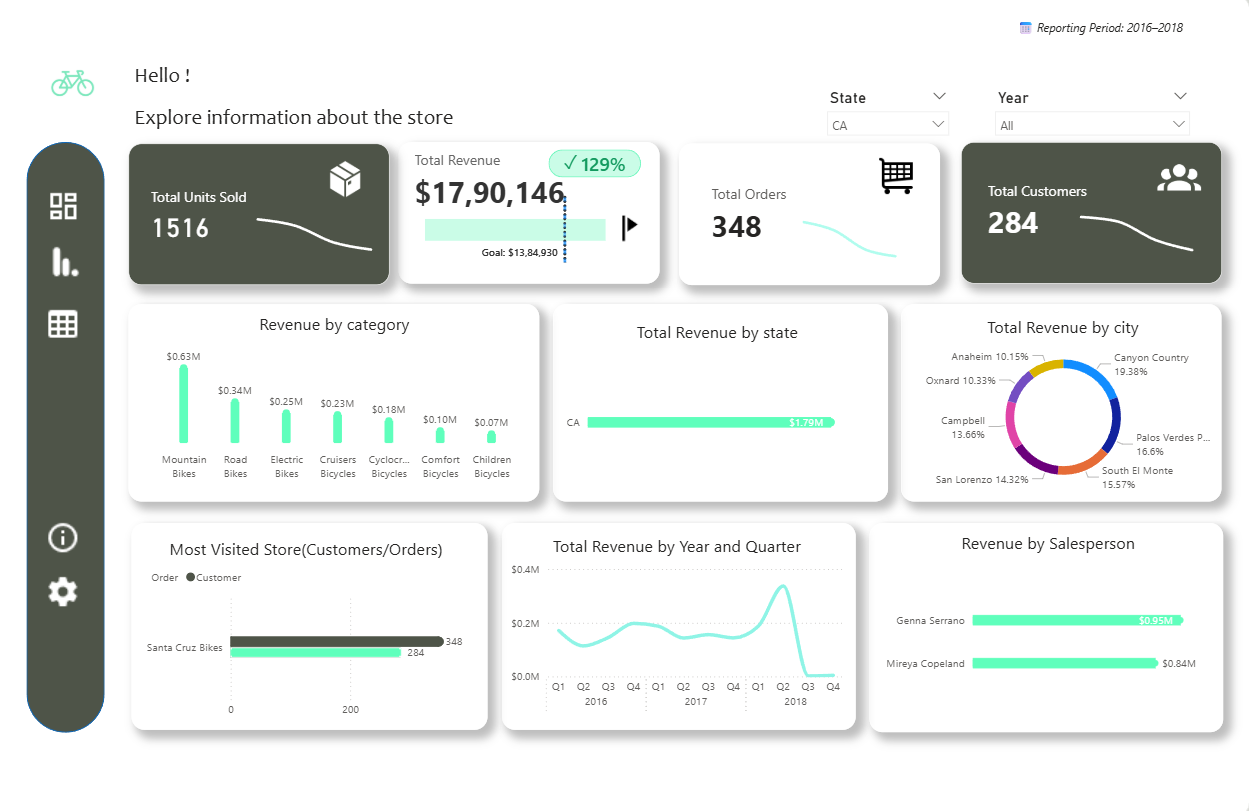

The page's visual inventory and layout, read from the dashboard file:
{"tool":"powerbi","page":{"name":"Dashboard","canvas":[1500,1000],"ordinal":0},"visuals":[{"type":"group","id":"g1","title":"Group 3","box":[496.5,199.5,298.5,161.8],"z":0},{"type":"textbox","box":[1139.4,199.5,298.5,162.1],"z":0,"group":"g11"},{"type":"cardVisual","fields":{"Data":["Executive Dashboard.Total Revenue"]},"box":[499.5,202.2,221.2,80.3],"z":0,"group":"g1"},{"type":"shape","box":[668.3,208.9,105.8,31.9],"z":0,"group":"g8"},{"type":"image","box":[76.3,248,70,50],"z":0,"group":"g16"},{"type":"barChart","fields":{"Y":["Executive Dashboard.Total Revenue","Executive Dashboard.Revenue Gap (for Bar Chart)"],"Category":["Records.Record"]},"box":[506.8,248.5,247.1,103.2],"z":0,"group":"g4"},{"type":"textbox","box":[672.7,384.4,383.3,225.8],"z":0,"group":"g7"},{"type":"slicer","fields":{"Values":["Executive Dashboard.Year"]},"box":[1168.2,131.8,242.4,66.7],"z":1000},{"type":"textbox","box":[187.9,201,298.5,162.1],"z":1000,"group":"g13"},{"type":"image","box":[1348.6,208.2,80.3,60.6],"z":1000,"group":"g11"},{"type":"card","fields":{"Values":["Executive Dashboard.Total Revenue % to goal"]},"box":[694.9,212.8,70.6,25],"z":1000,"group":"g8"},{"type":"barChart","fields":{"Y":["Executive Dashboard.Total Revenue"],"Category":["Records.Record"]},"box":[506.8,248.5,246.7,102.9],"z":1000,"group":"g4"},{"type":"actionButton","box":[738.8,276.9,45.6,39.7],"z":1000,"group":"g1"},{"type":"image","box":[79.3,311.6,69.7,50],"z":1000,"group":"g16"},{"type":"clusteredBarChart","fields":{"Category":["Executive Dashboard.state"],"Y":["Executive Dashboard.Total Revenue"]},"box":[681.6,404,359.1,201.5],"z":1000,"group":"g7"},{"type":"group","id":"g2","title":"Group 6","box":[816.2,201,298.5,161.8],"z":2000},{"type":"card","fields":{"Values":["Executive Dashboard.Revenue % to Goal Text Symbol"]},"box":[671.6,208.2,43.5,31.9],"z":2000,"group":"g8"},{"type":"cardVisual","fields":{"Data":["Count(Executive Dashboard.Customers)"]},"box":[1145.5,211.6,286.4,134.8],"z":2000,"group":"g11"},{"type":"group","id":"g3","title":"Group 5","box":[821.8,219.6,279.4,125],"z":2000,"group":"g2"},{"type":"cardVisual","fields":{"Data":["Executive Dashboard.Total Orders"]},"box":[821.8,219.6,279.4,125],"z":2000,"group":"g3"},{"type":"image","box":[76.3,381.3,69.7,50],"z":2000,"group":"g16"},{"type":"group","id":"g4","title":"Group 1","box":[506.8,248.5,247.1,103.2],"z":3000,"group":"g1"},{"type":"lineChart","fields":{"Category":["Executive Dashboard.Order_Quarter"],"Y":["Count(Executive Dashboard.Customers)"]},"box":[1254.6,270.7,171.2,62.1],"z":3000,"group":"g11"},{"type":"clusteredColumnChart","title":"Revenue by category","fields":{"Category":["Executive Dashboard.category_name"],"Y":["Executive Dashboard.Total Revenue"]},"box":[189.2,395,464.1,198.5],"z":3000,"group":"g6"},{"type":"group","id":"g5","title":"Group 7","box":[615.2,635.9,404.5,236.4],"z":3000},{"type":"image","box":[76.3,688.9,69.7,50],"z":3000,"group":"g16"},{"type":"group","id":"g6","title":"Group 8","box":[186.4,384.4,469.7,225.8],"z":4000},{"type":"image","box":[76.3,626.8,69.7,50],"z":4000,"group":"g16"},{"type":"lineChart","fields":{"Category":["Executive Dashboard.Year","Executive Dashboard.Order_Quarter"],"Y":["Executive Dashboard.Total Revenue"]},"box":[621,649.3,390,212.6],"z":4000,"group":"g15"},{"type":"group","id":"g7","title":"Group 9","box":[672.7,384.4,383.3,225.8],"z":5000},{"type":"group","id":"g8","title":"Group 2","box":[496.5,199.5,298.5,161.8],"z":5004,"group":"g1"},{"type":"textbox","box":[816.2,201,298.5,161.8],"z":6000,"group":"g2"},{"type":"textbox","box":[186.4,384.4,469.7,225.8],"z":6000,"group":"g6"},{"type":"group","id":"g9","title":"Group 10","box":[1071.2,384.4,366.7,225.8],"z":6000},{"type":"textbox","box":[496.5,199.5,298.5,161.8],"z":6001,"group":"g8"},{"type":"textbox","box":[1071.2,384.4,366.7,225.8],"z":7000,"group":"g9"},{"type":"group","id":"g10","title":"Group 11","box":[190.9,635.9,407.6,236.4],"z":7000},{"type":"textbox","box":[190.9,635.9,407.6,236.4],"z":7000,"group":"g10"},{"type":"textbox","box":[615.2,635.9,404.5,236.4],"z":7000,"group":"g15"},{"type":"textbox","box":[1034.8,635.9,404.5,239.4],"z":7000,"group":"g12"},{"type":"image","box":[1025.3,208.6,80,60],"z":7001,"group":"g2"},{"type":"lineChart","fields":{"Y":["Executive Dashboard.Total Orders"],"Category":["Executive Dashboard.Order_Quarter"]},"box":[939.5,268.1,142.6,72.1],"z":7501,"group":"g2"},{"type":"group","id":"g11","title":"Group 4","box":[1139.4,199.5,298.5,162.1],"z":8000},{"type":"group","id":"g12","title":"Group 13","box":[1034.8,635.9,404.5,239.4],"z":9000},{"type":"group","id":"g13","title":"Group 14","box":[187.9,201,300,162.1],"z":10000},{"type":"donutChart","fields":{"Category":["Executive Dashboard.city"],"Y":["Executive Dashboard.Total Revenue"]},"box":[1081.8,398,350,206.1],"z":10000,"group":"g9"},{"type":"clusteredBarChart","title":"Most Visited Store(Customers/Orders)","fields":{"Category":["Executive Dashboard.store_name"],"Y":["Executive Dashboard.Order Count","Executive Dashboard.Customer Count"]},"box":[196.9,653.3,389.3,213.6],"z":10000,"group":"g10"},{"type":"group","id":"g14","title":"Group 16","box":[70.2,199.5,89.4,675.8],"z":11000},{"type":"cardVisual","fields":{"Data":["Executive Dashboard.Total Units Sold"]},"box":[197,208.6,272.7,148.5],"z":11000,"group":"g13"},{"type":"textbox","box":[189.4,103,484.8,95.5],"z":12000},{"type":"lineChart","fields":{"Category":["Executive Dashboard.Order_Quarter"],"Y":["Executive Dashboard.Total Units Sold"]},"box":[313.7,266.2,174.2,80.3],"z":12000,"group":"g13"},{"type":"clusteredBarChart","title":"Revenue by Salesperson","fields":{"Category":["Executive Dashboard.sales_Rep"],"Y":["Executive Dashboard.Total Revenue"]},"box":[1040.9,646.5,395.5,219.7],"z":12000,"group":"g12"},{"type":"slicer","fields":{"Values":["Executive Dashboard.state"]},"box":[975.8,131.8,159.1,63.6],"z":13000},{"type":"image","box":[395.5,211.6,80.3,60.6],"z":13000,"group":"g13"},{"type":"shape","box":[70.2,199.5,89.4,675.8],"z":13002,"group":"g14"},{"type":"group","id":"g15","title":"Group 12","box":[615.2,635.9,404.5,236.4],"z":13004,"group":"g5"},{"type":"group","id":"g16","title":"Group 15","box":[76.3,248,72.7,490.9],"z":13008,"group":"g14"},{"type":"image","box":[50,89.7,147.1,86.8],"z":14000},{"type":"textbox","box":[1200,53.7,232.8,35.8],"z":15000}]}

Visuals, with their boxes on the page's 1500x1000 design canvas (x1, y1, x2, y2). These are canvas units, not pixel positions in the 1249x811 screenshot, which may show the page scaled, cropped or inside an application window:
"Group 3" group: crop(496, 200, 795, 361)
textbox: crop(1139, 200, 1438, 362)
cardVisual - Executive Dashboard.Total Revenue: crop(500, 202, 721, 282)
shape: crop(668, 209, 774, 241)
image: crop(76, 248, 146, 298)
barChart - Executive Dashboard.Total Revenue x Executive Dashboard.Revenue Gap (for Bar Chart): crop(507, 248, 754, 352)
textbox: crop(673, 384, 1056, 610)
slicer - Executive Dashboard.Year: crop(1168, 132, 1411, 198)
textbox: crop(188, 201, 486, 363)
image: crop(1349, 208, 1429, 269)
card - Executive Dashboard.Total Revenue % to goal: crop(695, 213, 766, 238)
barChart - Executive Dashboard.Total Revenue x Records.Record: crop(507, 248, 754, 351)
actionButton: crop(739, 277, 784, 317)
image: crop(79, 312, 149, 362)
clusteredBarChart - Executive Dashboard.state x Executive Dashboard.Total Revenue: crop(682, 404, 1041, 606)
"Group 6" group: crop(816, 201, 1115, 363)
card - Executive Dashboard.Revenue % to Goal Text Symbol: crop(672, 208, 715, 240)
cardVisual - Count(Executive Dashboard.Customers): crop(1146, 212, 1432, 346)
"Group 5" group: crop(822, 220, 1101, 345)
cardVisual - Executive Dashboard.Total Orders: crop(822, 220, 1101, 345)
image: crop(76, 381, 146, 431)
"Group 1" group: crop(507, 248, 754, 352)
lineChart - Executive Dashboard.Order_Quarter x Count(Executive Dashboard.Customers): crop(1255, 271, 1426, 333)
"Revenue by category" clusteredColumnChart: crop(189, 395, 653, 594)
"Group 7" group: crop(615, 636, 1020, 872)
image: crop(76, 689, 146, 739)
"Group 8" group: crop(186, 384, 656, 610)
image: crop(76, 627, 146, 677)
lineChart - Executive Dashboard.Year x Executive Dashboard.Order_Quarter: crop(621, 649, 1011, 862)
"Group 9" group: crop(673, 384, 1056, 610)
"Group 2" group: crop(496, 200, 795, 361)
textbox: crop(816, 201, 1115, 363)
textbox: crop(186, 384, 656, 610)
"Group 10" group: crop(1071, 384, 1438, 610)
textbox: crop(496, 200, 795, 361)
textbox: crop(1071, 384, 1438, 610)
"Group 11" group: crop(191, 636, 598, 872)
textbox: crop(191, 636, 598, 872)
textbox: crop(615, 636, 1020, 872)
textbox: crop(1035, 636, 1439, 875)
image: crop(1025, 209, 1105, 269)
lineChart - Executive Dashboard.Total Orders x Executive Dashboard.Order_Quarter: crop(940, 268, 1082, 340)
"Group 4" group: crop(1139, 200, 1438, 362)
"Group 13" group: crop(1035, 636, 1439, 875)
"Group 14" group: crop(188, 201, 488, 363)
donutChart - Executive Dashboard.city x Executive Dashboard.Total Revenue: crop(1082, 398, 1432, 604)
"Most Visited Store(Customers/Orders)" clusteredBarChart: crop(197, 653, 586, 867)
"Group 16" group: crop(70, 200, 160, 875)
cardVisual - Executive Dashboard.Total Units Sold: crop(197, 209, 470, 357)
textbox: crop(189, 103, 674, 198)
lineChart - Executive Dashboard.Order_Quarter x Executive Dashboard.Total Units Sold: crop(314, 266, 488, 346)
"Revenue by Salesperson" clusteredBarChart: crop(1041, 646, 1436, 866)
slicer - Executive Dashboard.state: crop(976, 132, 1135, 195)
image: crop(396, 212, 476, 272)
shape: crop(70, 200, 160, 875)
"Group 12" group: crop(615, 636, 1020, 872)
"Group 15" group: crop(76, 248, 149, 739)
image: crop(50, 90, 197, 176)
textbox: crop(1200, 54, 1433, 90)
